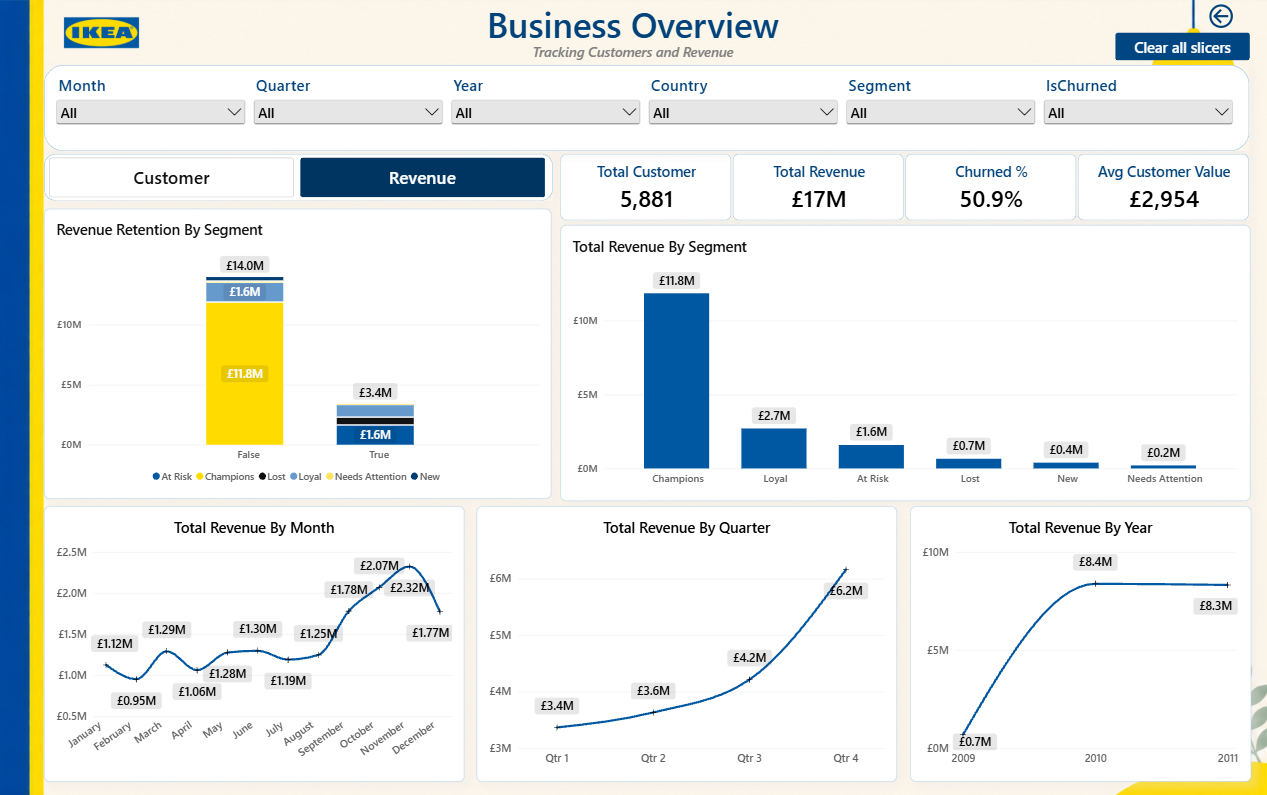

This screenshot's page, from the dashboard's own definition file:
{"tool":"powerbi","page":{"name":"Overview","canvas":[1750,1100],"ordinal":1},"visuals":[{"type":"cardVisual","fields":{"Data":["Sheet1.Total Customer1"]},"box":[774.2,212.6,236,92],"z":0},{"type":"clusteredColumnChart","fields":{"Category":["Sheet1.Segment"],"Y":["Sheet1.Total Customer1"]},"box":[774.3,310.8,952,381],"z":0,"group":"g1"},{"type":"shape","box":[61.9,90,1662.5,118.8],"z":1000},{"type":"columnChart","title":"Customer Retention by Segment","fields":{"Category":["Sheet1.Segment"],"Series":["Sheet1.IsChurned"],"Y":["Sheet1.Total Customer"]},"box":[62,288,700,400],"z":1000,"group":"g1"},{"type":"cardVisual","fields":{"Data":["Sheet1.Total Revenue1"]},"box":[1012.3,212.6,236,92],"z":2000},{"type":"lineChart","fields":{"Category":["Sheet1.InvoiceDate.Variation.Date Hierarchy.Month"],"Y":["Sheet1.Total Customer"]},"box":[61.4,698.5,580,380],"z":2000,"group":"g1"},{"type":"slicer","fields":{"Values":["Sheet1.InvoiceDate.Variation.Date Hierarchy.Month"]},"box":[74.4,101.7,270.4,96.1],"z":3000},{"type":"lineChart","fields":{"Category":["Sheet1.InvoiceDate.Variation.Date Hierarchy.Quarter"],"Y":["Sheet1.Total Customer"]},"box":[658.3,698.5,580,380],"z":3000,"group":"g1"},{"type":"slicer","fields":{"Values":["Sheet1.InvoiceDate.Variation.Date Hierarchy.Quarter"]},"box":[346.8,101.7,270.4,96.1],"z":4000},{"type":"lineChart","fields":{"Category":["Sheet1.InvoiceDate.Variation.Date Hierarchy.Year"],"Y":["Sheet1.Total Customer"]},"box":[1255.3,698.5,470,380],"z":4000,"group":"g1"},{"type":"cardVisual","fields":{"Data":["Sheet1.Churned %1"]},"box":[1250.3,212.6,236,92],"z":5000},{"type":"cardVisual","fields":{"Data":["Sheet1.Avg Customer Value1"]},"box":[1488.4,212.6,236,92],"z":6000},{"type":"slicer","fields":{"Values":["Sheet1.InvoiceDate.Variation.Date Hierarchy.Year"]},"box":[619.3,101.7,270.4,96.1],"z":7000},{"type":"slicer","fields":{"Values":["Sheet1.Country"]},"box":[891.7,101.7,270.4,96.1],"z":8000},{"type":"slicer","fields":{"Values":["Sheet1.Segment"]},"box":[1164.1,101.9,270.4,96.1],"z":9000},{"type":"shape","box":[62,212.5,702,65],"z":10000},{"type":"slicer","fields":{"Values":["Sheet1.IsChurned"]},"box":[1436.5,101.9,270.4,96.1],"z":11000},{"type":"group","id":"g1","title":"Customer","box":[61.4,288,1664.9,790.5],"z":12000},{"type":"bookmarkNavigator","box":[69.2,217.7,685,55],"z":14000},{"type":"image","box":[42,0,200,90],"z":15000},{"type":"textbox","box":[585,0,580,90],"z":16000},{"type":"textbox","box":[585,58.3,580,31.7],"z":17000},{"type":"actionButton","box":[1645.7,0,78.6,44.3],"z":18000},{"type":"actionButton","box":[1540,44.3,185.7,38.6],"z":19000}]}

Visuals, with their boxes in screenshot pixels (x1, y1, x2, y2), scaled from the page's 1750x1100 canvas onto the 1267x795 screenshot:
cardVisual - Sheet1.Total Customer1: (561,154,731,220)
clusteredColumnChart - Sheet1.Segment x Sheet1.Total Customer1: (561,225,1250,500)
shape: (45,65,1248,151)
"Customer Retention by Segment" columnChart: (45,208,552,497)
cardVisual - Sheet1.Total Revenue1: (733,154,904,220)
lineChart - Sheet1.InvoiceDate.Variation.Date Hierarchy.Month x Sheet1.Total Customer: (44,505,464,779)
slicer - Sheet1.InvoiceDate.Variation.Date Hierarchy.Month: (54,74,250,143)
lineChart - Sheet1.InvoiceDate.Variation.Date Hierarchy.Quarter x Sheet1.Total Customer: (477,505,897,779)
slicer - Sheet1.InvoiceDate.Variation.Date Hierarchy.Quarter: (251,74,447,143)
lineChart - Sheet1.InvoiceDate.Variation.Date Hierarchy.Year x Sheet1.Total Customer: (909,505,1249,779)
cardVisual - Sheet1.Churned %1: (905,154,1076,220)
cardVisual - Sheet1.Avg Customer Value1: (1078,154,1248,220)
slicer - Sheet1.InvoiceDate.Variation.Date Hierarchy.Year: (448,74,644,143)
slicer - Sheet1.Country: (646,74,841,143)
slicer - Sheet1.Segment: (843,74,1039,143)
shape: (45,154,553,201)
slicer - Sheet1.IsChurned: (1040,74,1236,143)
"Customer" group: (44,208,1250,779)
bookmarkNavigator: (50,157,546,197)
image: (30,0,175,65)
textbox: (424,0,843,65)
textbox: (424,42,843,65)
actionButton: (1191,0,1248,32)
actionButton: (1115,32,1249,60)
